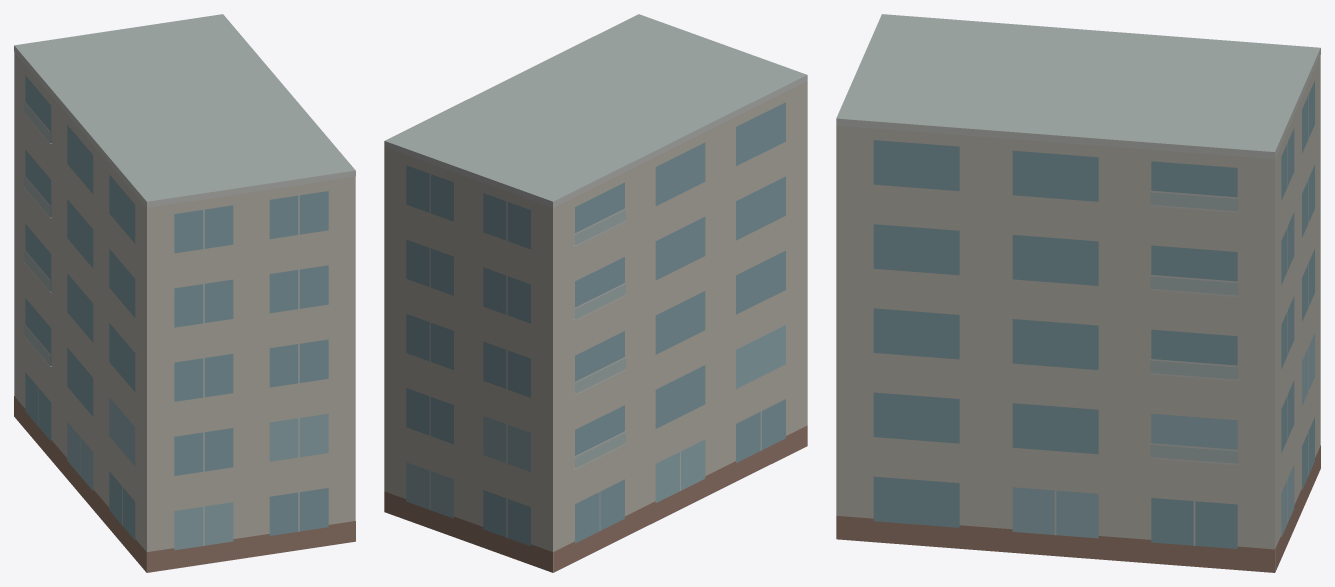
The model's file is survey-upis-32887518.glb.
3 views of the same model, side by side, from view 1: azimuth 30°, elevation 25°; view 2: azimuth 150°, elevation 25°; view 3: azimuth 270°, elevation 25° (orthographic). The views are drawn at different scales.
Parts seen in each view (by area): view 1: survey-upis-32887518.tmp; view 2: survey-upis-32887518.tmp; view 3: survey-upis-32887518.tmp.
Part boxes in pixels (x1,y1,x2,y2): survey-upis-32887518.tmp: (14, 14, 355, 572); survey-upis-32887518.tmp: (384, 14, 807, 572); survey-upis-32887518.tmp: (836, 14, 1320, 572).
Size of the model in its own units: 10.25 by 14.55 by 15.2.
